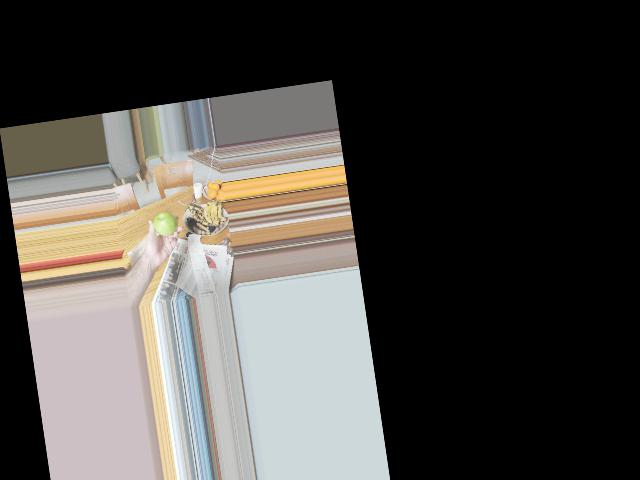apple: (151, 209, 178, 237)
